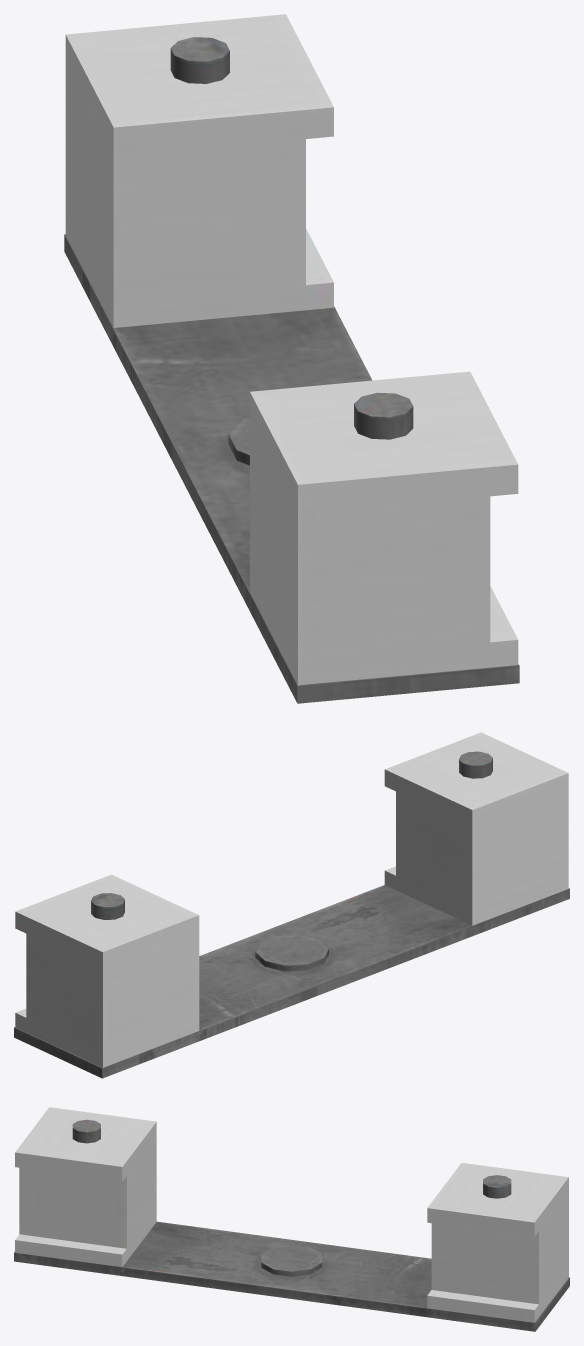
Rendered from tool_pipe_bender_crossbow_nozzle_07.glb.
3 views of the same model, one above another, from view 1: azimuth 30°, elevation 25°; view 2: azimuth 150°, elevation 25°; view 3: azimuth 270°, elevation 25° (orthographic). The views are drawn at different scales.
Parts seen in each view (by area): view 1: tool_pipe_bender_crossbow_nozzle_07; view 2: tool_pipe_bender_crossbow_nozzle_07; view 3: tool_pipe_bender_crossbow_nozzle_07.
Part boxes in pixels (x1,y1,x2,y2): tool_pipe_bender_crossbow_nozzle_07: (64,14,519,703); tool_pipe_bender_crossbow_nozzle_07: (14,732,569,1078); tool_pipe_bender_crossbow_nozzle_07: (14,1107,569,1331).
Bounding box in the file's own units: 0.098 × 0.0473 × 0.1982.
1 material, 1 textured.
